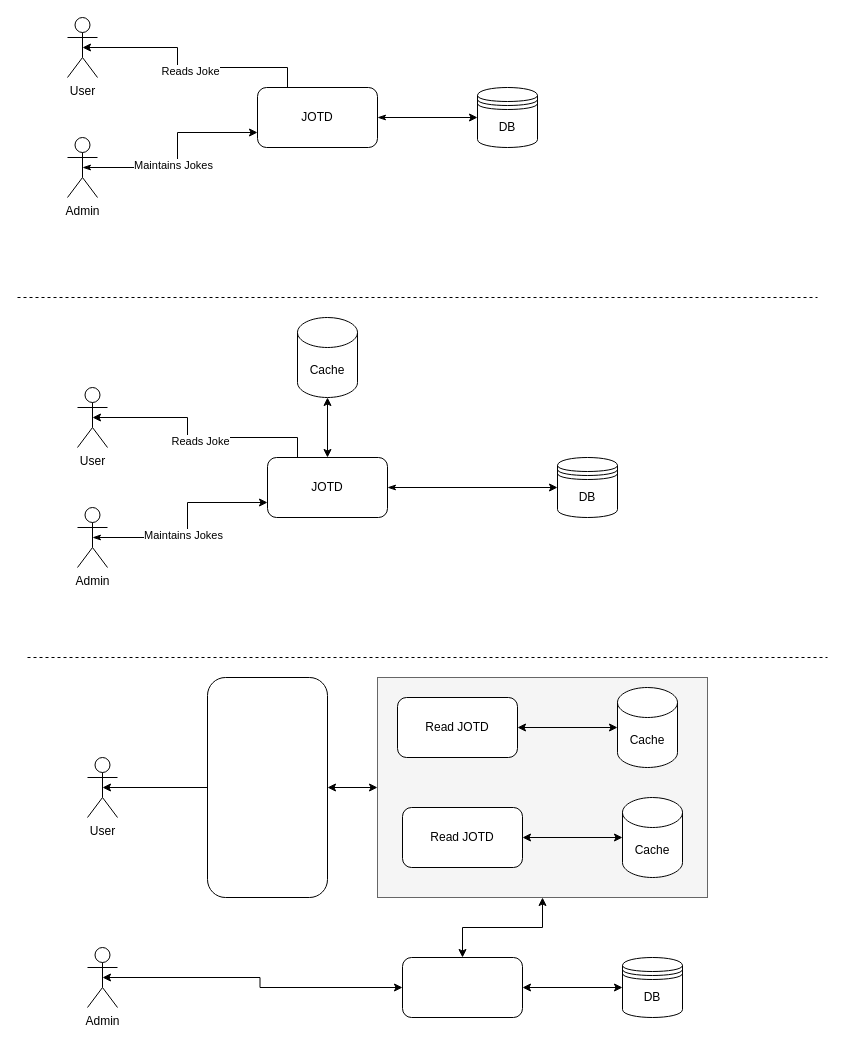
This 846x1046 diagram has some shape labels left out. The centre of each missing label's shape, as x and y in pixels:
"JOTD Admin" belongs at (462,987).
"Load Balancer" belongs at (267,787).
